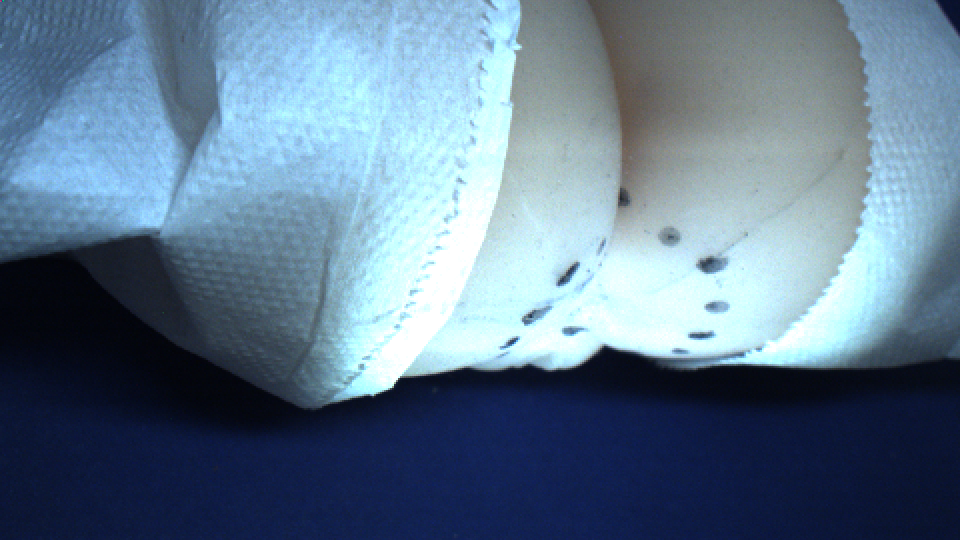asarp_marker: (697, 246, 738, 279), (551, 252, 586, 289), (521, 302, 557, 330), (657, 223, 684, 250), (559, 324, 593, 344), (614, 180, 635, 211), (683, 327, 721, 341), (699, 302, 733, 313), (502, 336, 522, 352), (669, 345, 695, 356)
